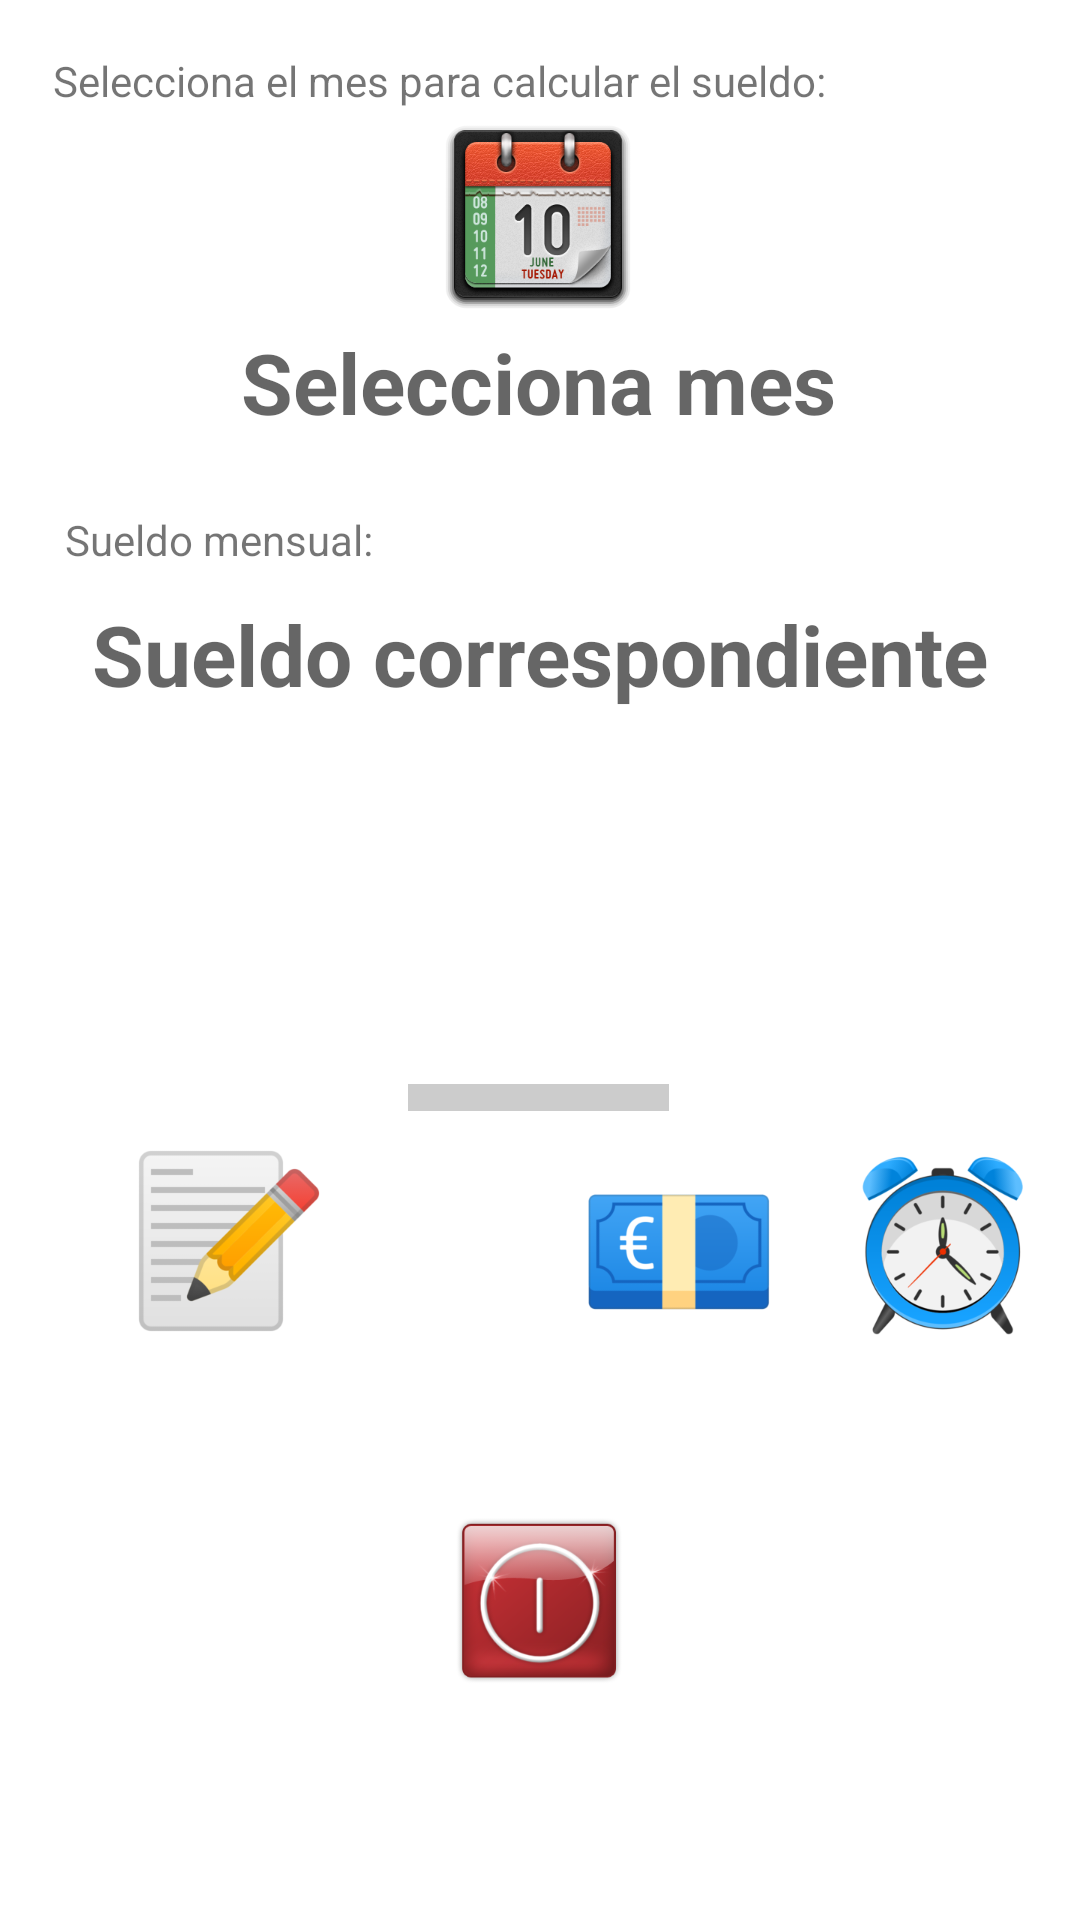

Named icons in this screenshot (1080 × 1920) and their bounding boxes, {"x1": x1, "y1": y1, "x2": x2, "y2": y2}:
alarmclockhd: {"x1": 862, "y1": 1157, "x2": 1023, "y2": 1335}
calendar: {"x1": 448, "y1": 129, "x2": 628, "y2": 306}
edit: {"x1": 139, "y1": 1151, "x2": 319, "y2": 1331}
eurobanknote: {"x1": 588, "y1": 1194, "x2": 769, "y2": 1310}
